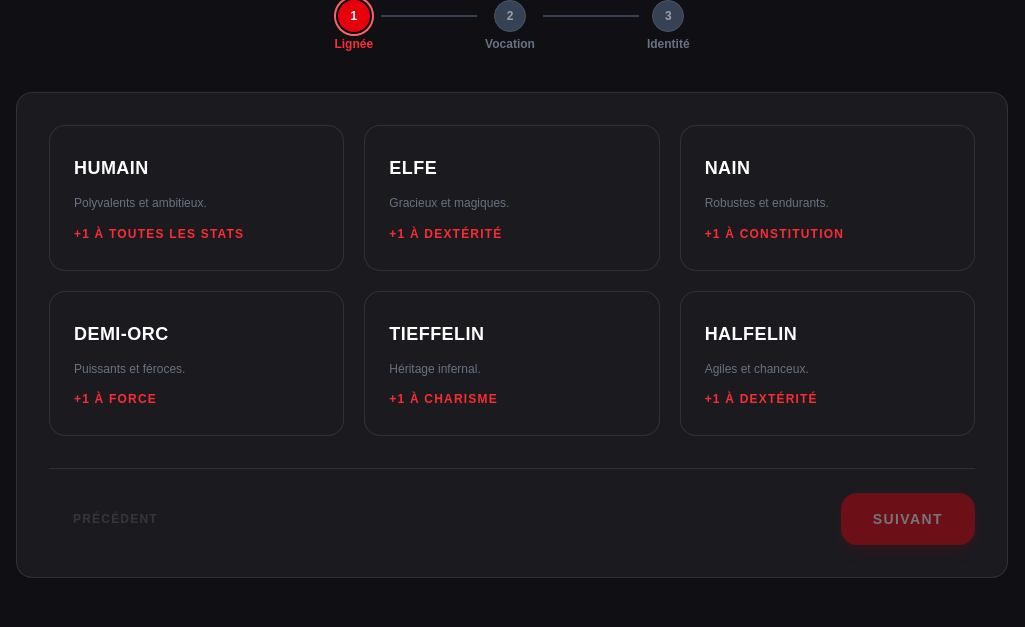
Test: CharacterStep › navigation vers étape 1 — Vocation › le bouton Précédent ramène à l'étape 0
Step 1. Click the text "Elfe" → (413, 168), box [389,158,437,178]
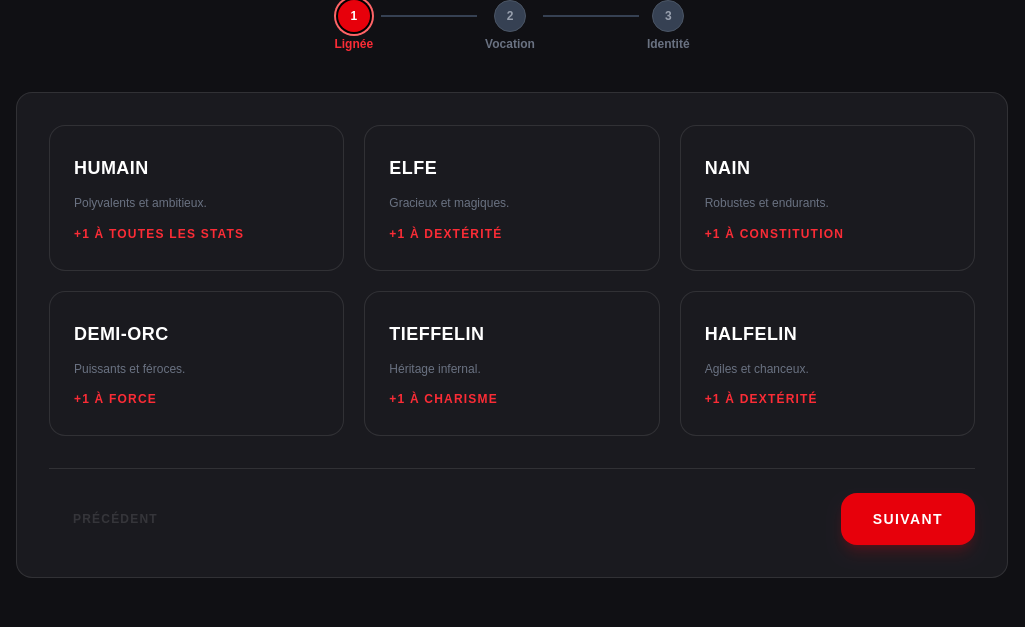
Step 2. Click the button "Suivant" → (908, 519), box [841,493,975,545]
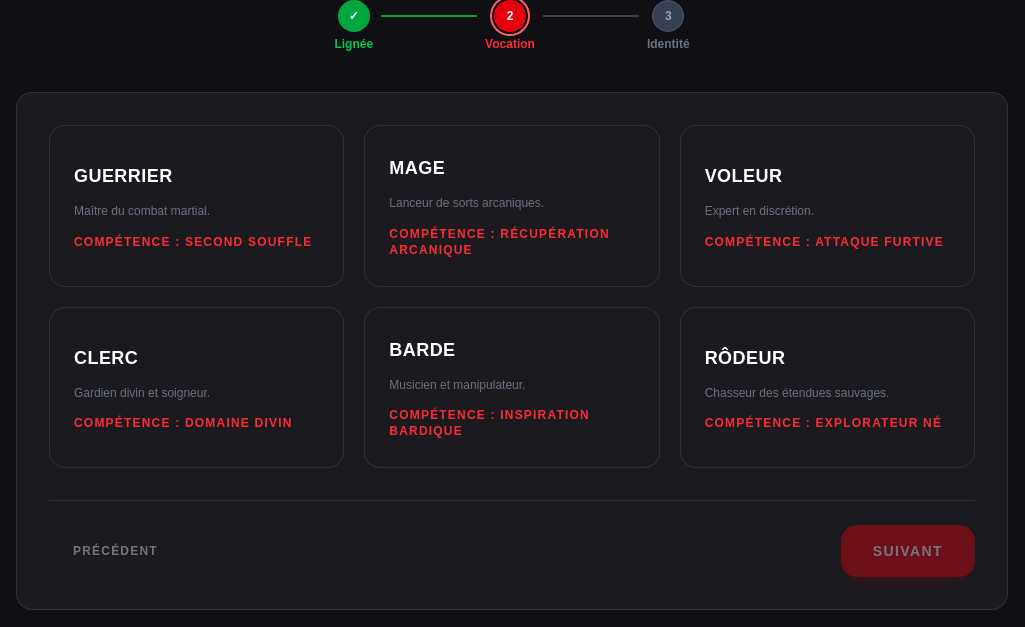
Step 3. Click the button "Précédent" → (115, 551), box [49,527,182,575]
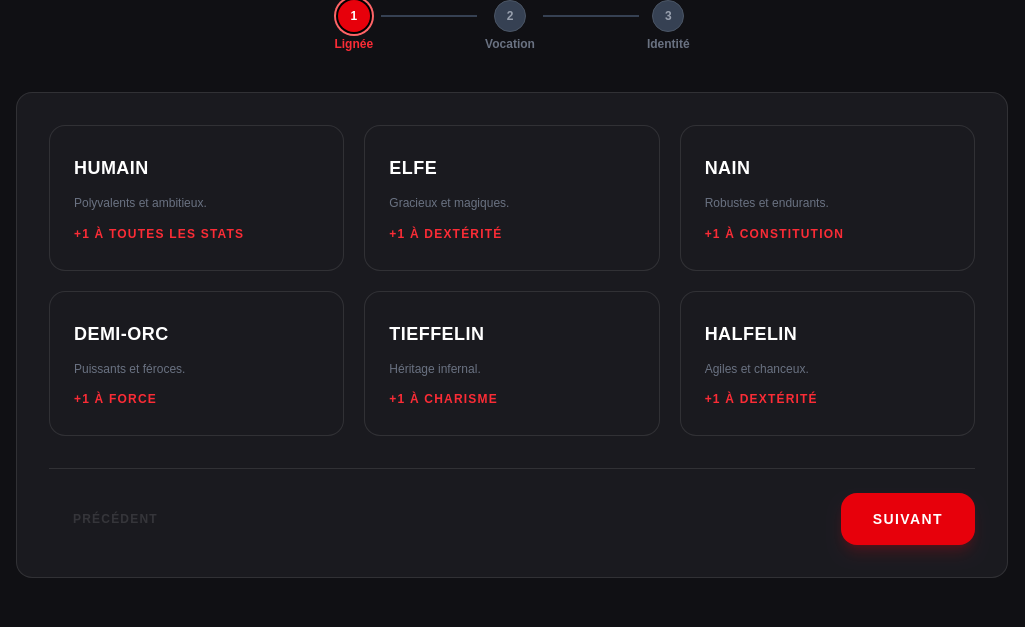
expect the text "Humain" is shown: met, box [74,158,149,178]
